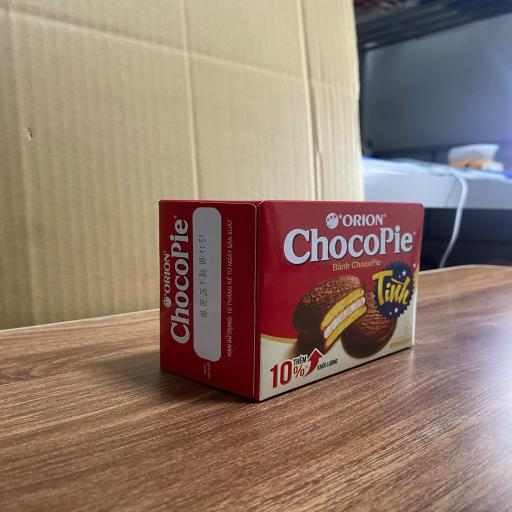chocopie: (157, 199, 423, 399)
